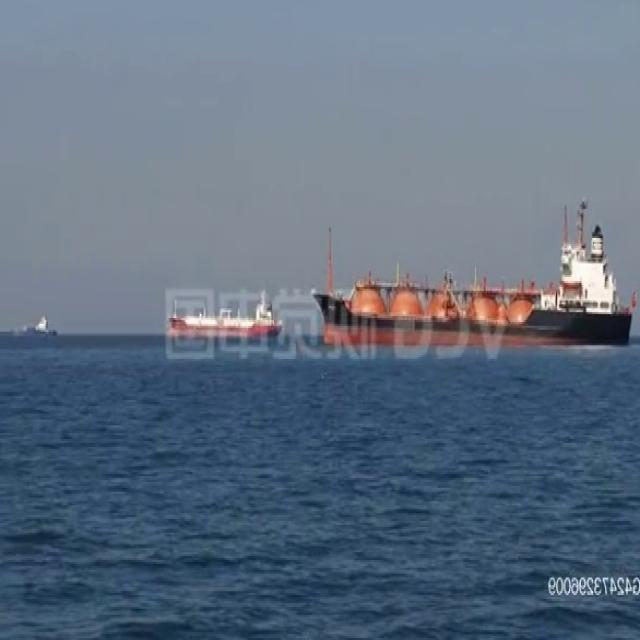cargoship: (319, 195, 640, 342), (166, 288, 283, 338), (16, 310, 58, 338)
